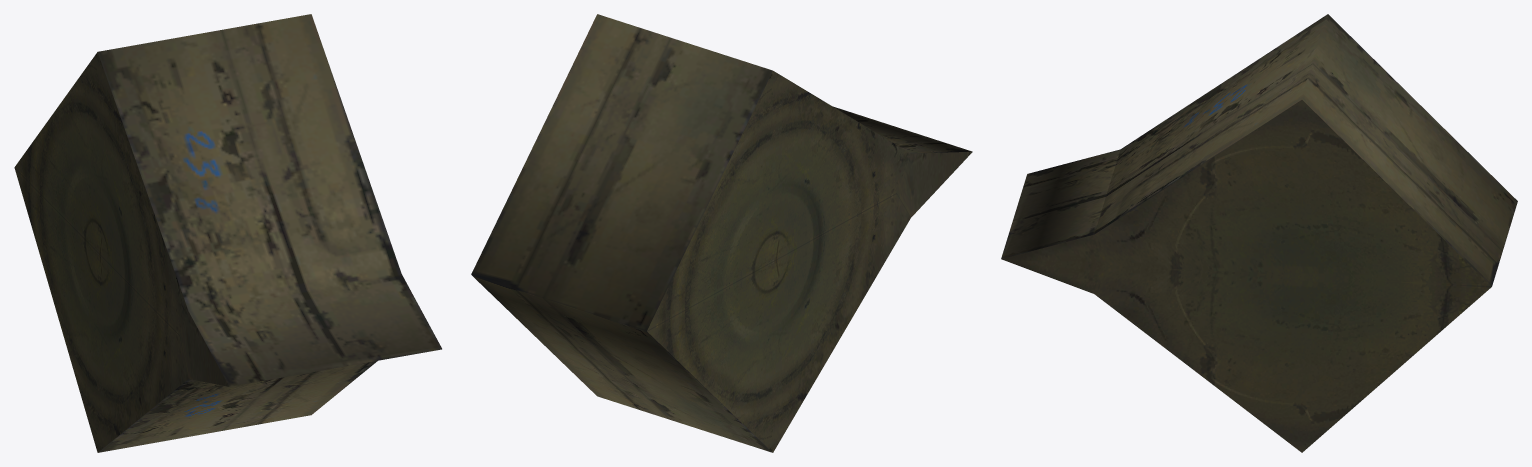
The model's file is t6_attach_mag_hamr_world_LOD2.obj.
3 views of the same model, side by side, from view 1: azimuth 30°, elevation 25°; view 2: azimuth 150°, elevation 25°; view 3: azimuth 270°, elevation 25° (orthographic). The views are drawn at different scales.
Parts seen in each view (by area): view 1: mtl_t6_wpn_lmg_hamr_parts; view 2: mtl_t6_wpn_lmg_hamr_parts; view 3: mtl_t6_wpn_lmg_hamr_parts.
Boxes of the visible parts, x1,y1,x2,y2 form: mtl_t6_wpn_lmg_hamr_parts: (14,14,441,452); mtl_t6_wpn_lmg_hamr_parts: (471,14,972,452); mtl_t6_wpn_lmg_hamr_parts: (1001,14,1517,452).
Size of the model in its own units: 10.17 by 14.84 by 19.68.
